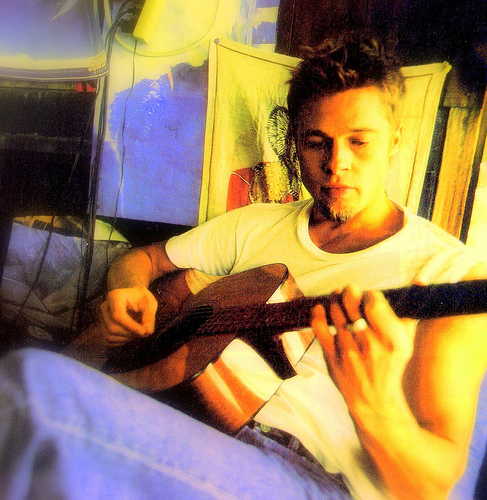guitar: (78, 263, 487, 426)
